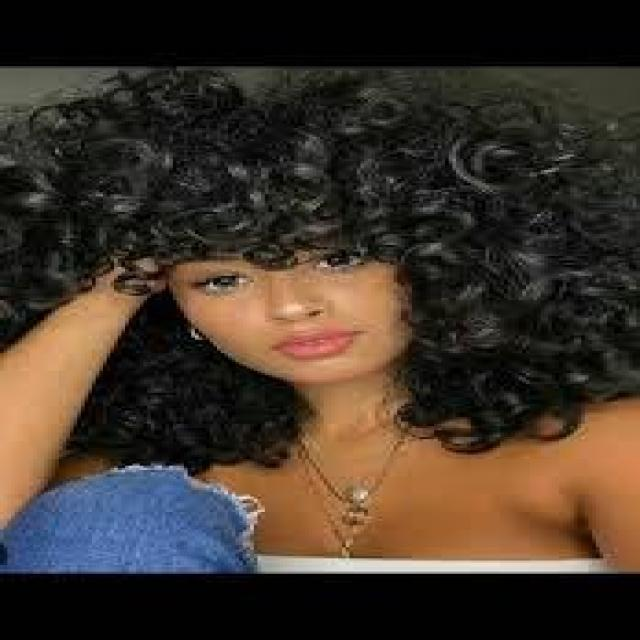person: (4, 86, 632, 576)
